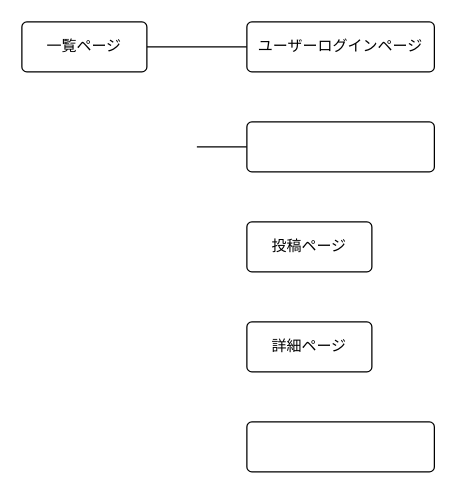
Some shapes in this 456 by 494 pixel diagram are drawn without their labels. The centre of each missing label's shape, as x and y in pixels:
ユーザー新規登録ページ: point (340, 146)
商品追加ページ: point (340, 446)
